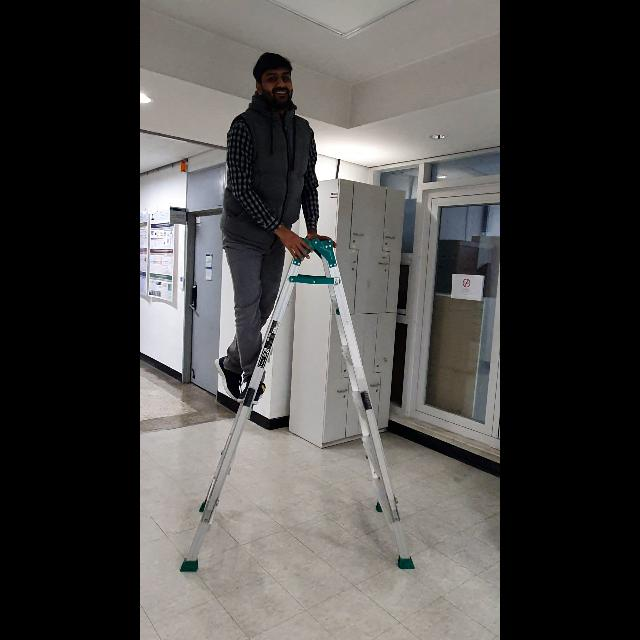hard hat: (178, 231, 422, 574)
vest: (212, 47, 346, 409)
